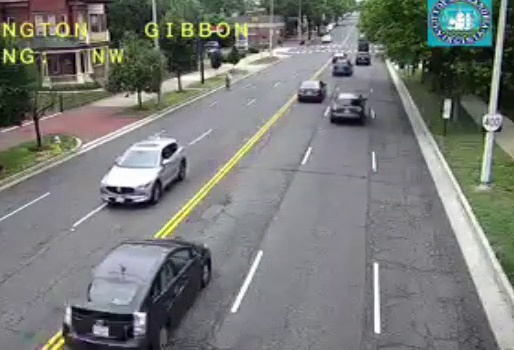car: (63, 239, 212, 350), (332, 93, 365, 121), (297, 81, 325, 101)
